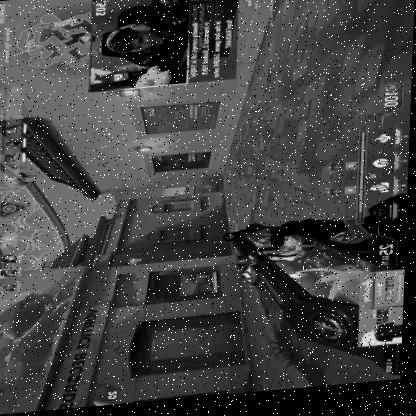streamer: (105, 8, 189, 71)
